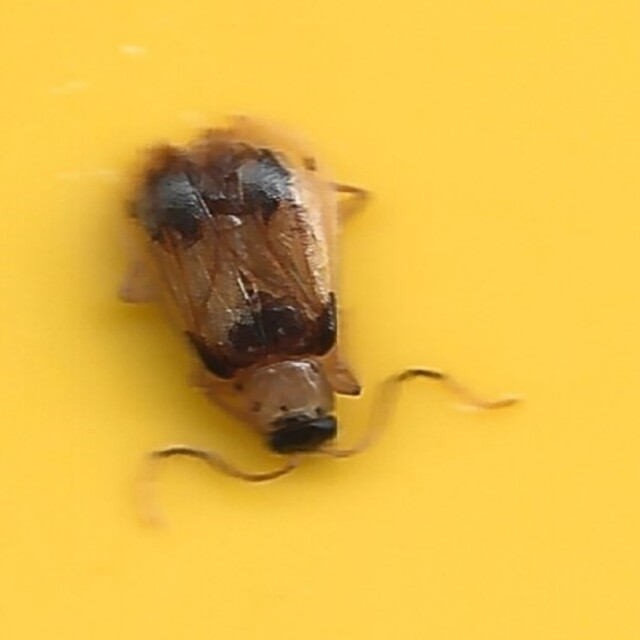Coleoptera: (125, 114, 515, 526)
